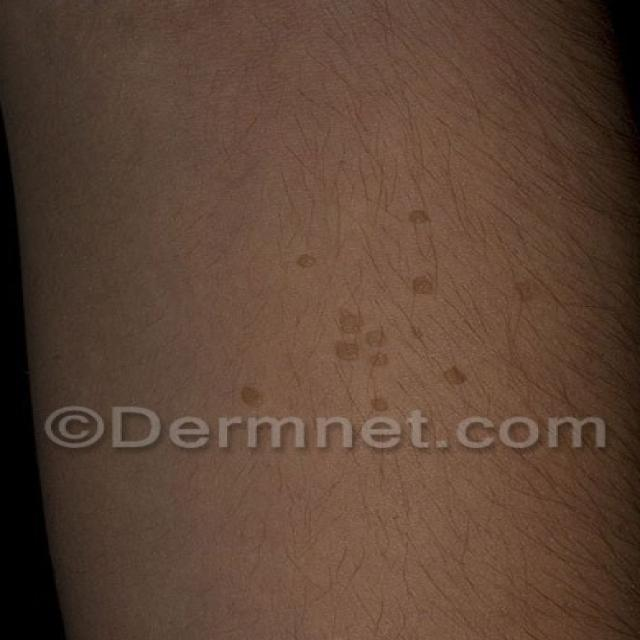Warts: (204, 62, 606, 640)
